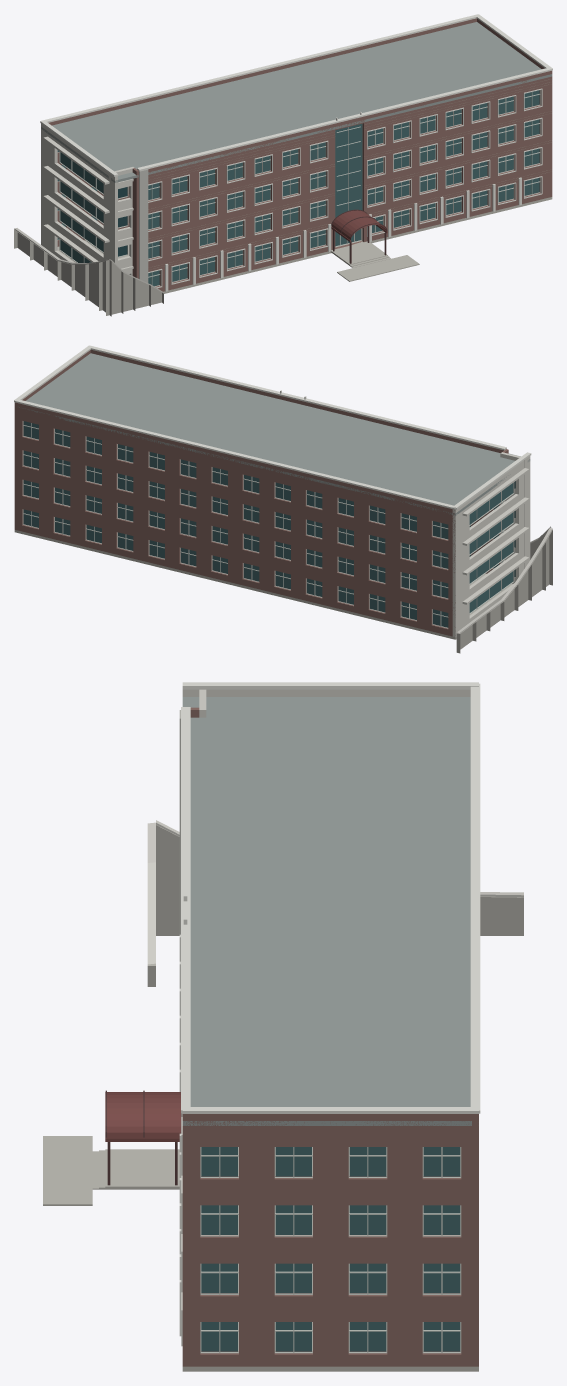
3 views of the same model, one above another, from view 1: azimuth 30°, elevation 25°; view 2: azimuth 150°, elevation 25°; view 3: azimuth 270°, elevation 25° (orthographic). The views are drawn at different scales.
Parts seen in each view (by area): view 1: n14-natsci2__front-four-storey-brick, n14-natsci2__main-flat-roof, n14-natsci2__front-paired-square-windows-glass, n14-natsci2__pale-west-end-side, n14-natsci2__front-paired-square-windows-frame, n14-natsci2__front-window-pale-lintels, n14-natsci2__front-window-pale-jambs, n14-natsci2__west-stone-retaining-wall, n14-natsci2__rear-east-coping, n14-natsci2__central-stair-glass-glass, n14-natsci2__front-mortar-courses, n14-natsci2__rear-east-parapet (+16 smaller); view 2: n14-natsci2__rear-east-estimated-brick, n14-natsci2__main-flat-roof, n14-natsci2__rear-east-estimated-windows-glass, n14-natsci2__pale-west-end-side, n14-natsci2__rear-east-estimated-windows-frame, n14-natsci2__west-stone-retaining-wall, n14-natsci2__rear-east-coping, n14-natsci2__rear-east-parapet, n14-natsci2__west-end-recessed-glass-glass, n14-natsci2__brick-roof-coping, n14-natsci2__west-end-projecting-slab-edges, n14-natsci2__brick-parapet (+5 smaller); view 3: n14-natsci2__main-flat-roof, n14-natsci2__rear-east-estimated-brick, n14-natsci2__rear-east-estimated-windows-glass, n14-natsci2__rear-east-coping, n14-natsci2__rear-east-estimated-windows-frame, n14-natsci2__west-stone-retaining-wall, n14-natsci2__brick-roof-coping, n14-natsci2__arch-entry-apron, n14-natsci2__barrel-canopy-maroon-vault, n14-natsci2__arch-entry-threshold, n14-natsci2__osm-floor-slab, n14-natsci2__west-end-coping (+4 smaller).
Boxes of the visible parts, box(x1,y1,x2,y2) form: n14-natsci2__front-four-storey-brick: box(148, 76, 552, 291); n14-natsci2__main-flat-roof: box(41, 22, 552, 182); n14-natsci2__front-paired-square-windows-glass: box(148, 90, 539, 286); n14-natsci2__pale-west-end-side: box(41, 123, 117, 265); n14-natsci2__front-paired-square-windows-frame: box(148, 90, 540, 286); n14-natsci2__front-window-pale-lintels: box(148, 88, 542, 288); n14-natsci2__front-window-pale-jambs: box(161, 89, 542, 286); n14-natsci2__west-stone-retaining-wall: box(14, 229, 109, 315); n14-natsci2__rear-east-coping: box(44, 14, 552, 122); n14-natsci2__central-stair-glass-glass: box(335, 124, 362, 217); n14-natsci2__front-mortar-courses: box(148, 79, 551, 269); n14-natsci2__rear-east-parapet: box(48, 18, 544, 125); n14-natsci2__rear-east-estimated-brick: box(14, 406, 455, 636); n14-natsci2__main-flat-roof: box(18, 353, 530, 515); n14-natsci2__rear-east-estimated-windows-glass: box(23, 421, 448, 627); n14-natsci2__pale-west-end-side: box(452, 456, 530, 637); n14-natsci2__rear-east-estimated-windows-frame: box(22, 421, 448, 628); n14-natsci2__west-stone-retaining-wall: box(456, 529, 552, 653); n14-natsci2__rear-east-coping: box(14, 345, 455, 509); n14-natsci2__rear-east-parapet: box(14, 350, 455, 512); n14-natsci2__west-end-recessed-glass-glass: box(469, 483, 513, 612); n14-natsci2__brick-roof-coping: box(88, 345, 506, 450); n14-natsci2__west-end-projecting-slab-edges: box(462, 468, 529, 604); n14-natsci2__brick-parapet: box(90, 349, 503, 452); n14-natsci2__main-flat-roof: box(182, 697, 471, 1125); n14-natsci2__rear-east-estimated-brick: box(182, 1121, 478, 1366); n14-natsci2__rear-east-estimated-windows-glass: box(201, 1147, 460, 1351); n14-natsci2__rear-east-coping: box(182, 683, 480, 1113); n14-natsci2__rear-east-estimated-windows-frame: box(200, 1147, 461, 1353); n14-natsci2__west-stone-retaining-wall: box(156, 825, 523, 935); n14-natsci2__brick-roof-coping: box(181, 707, 190, 1113); n14-natsci2__arch-entry-apron: box(43, 1136, 92, 1205); n14-natsci2__barrel-canopy-maroon-vault: box(105, 1092, 180, 1137); n14-natsci2__arch-entry-threshold: box(105, 1149, 179, 1189); n14-natsci2__osm-floor-slab: box(182, 1147, 478, 1371); n14-natsci2__west-end-coping: box(182, 682, 478, 689).
Bounding box in the file's own units: 56.91 × 16.13 × 26.15.
